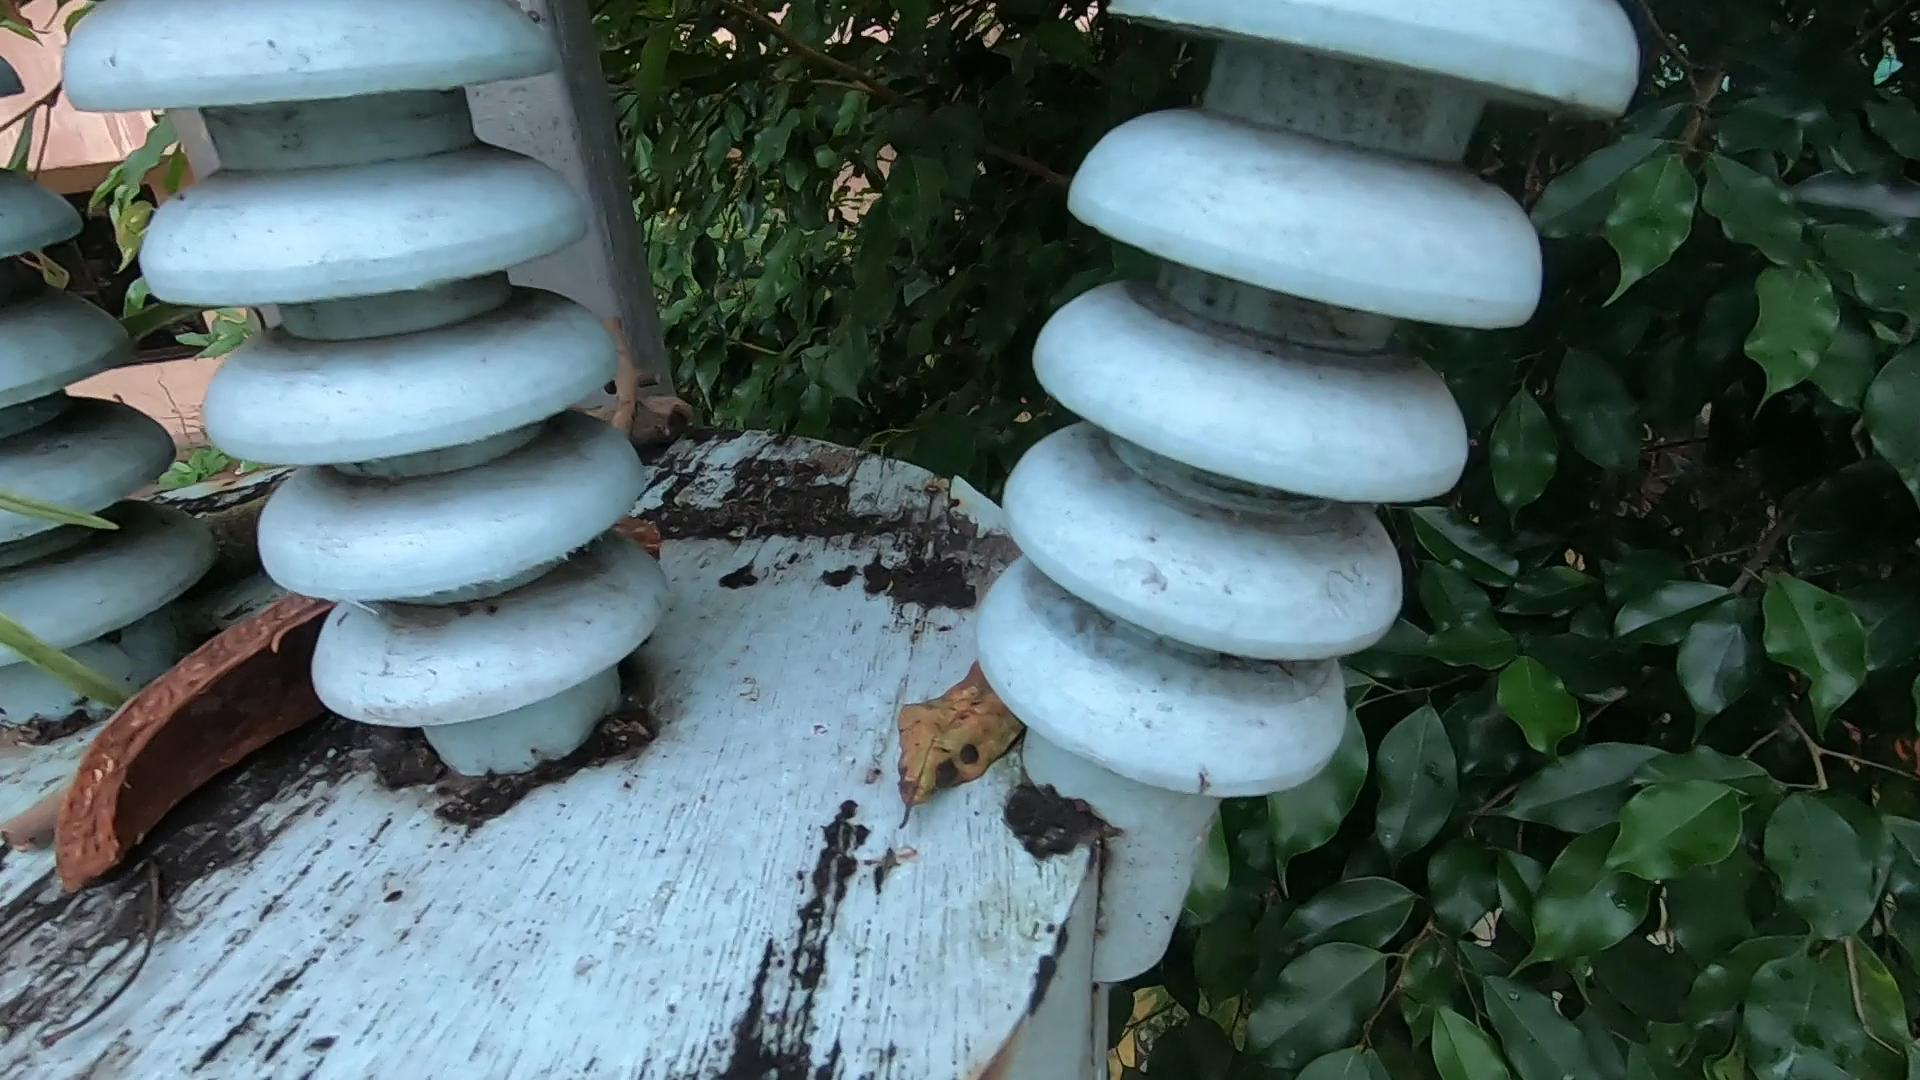leaf: (839, 624, 1065, 855)
mahogany fruit: (95, 524, 316, 858)
tree branch: (181, 446, 320, 576), (11, 761, 113, 899), (593, 338, 680, 473)
